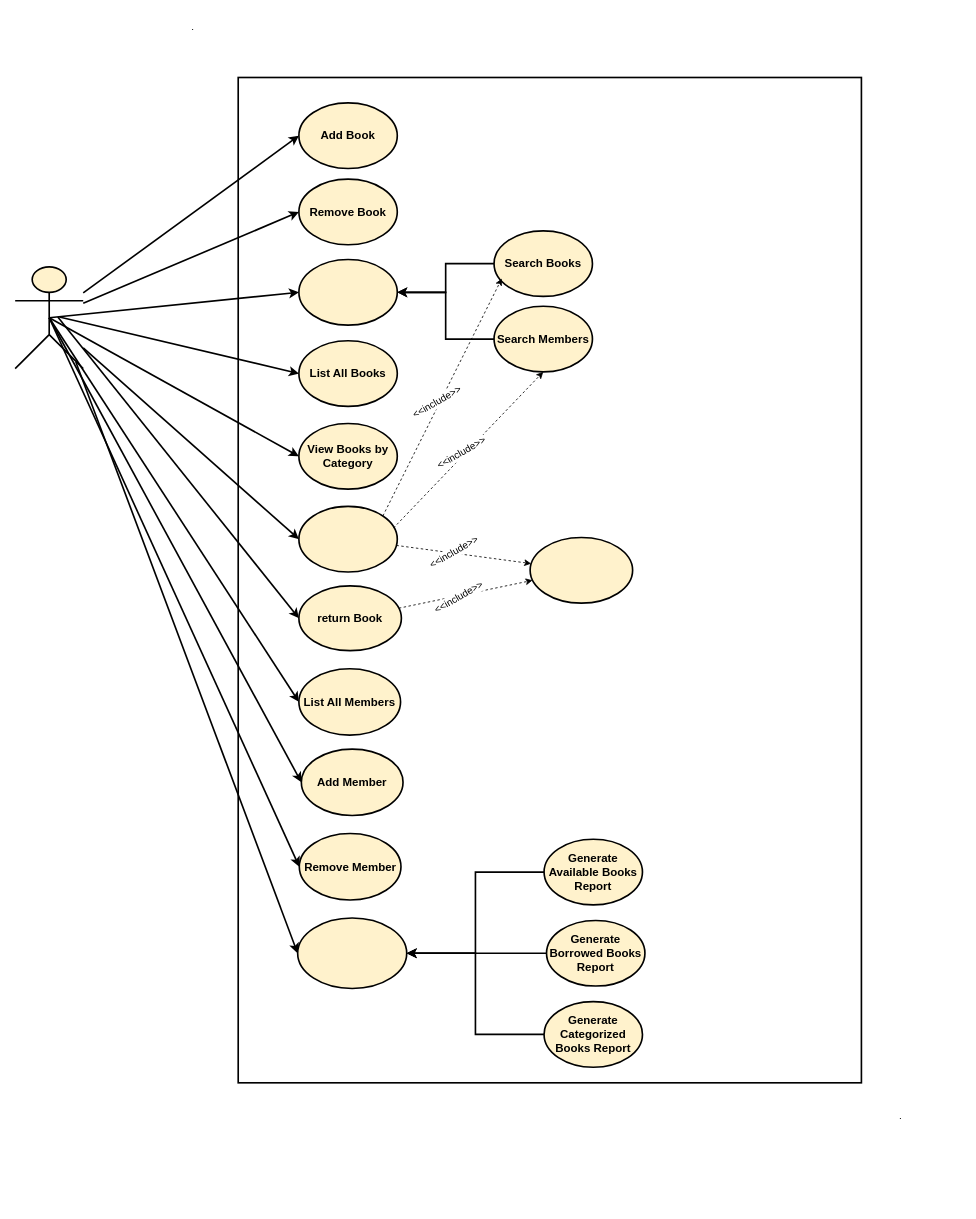
Some shapes in this 976 by 1219 pixel diagram are drawn without their labels. Here are the shapes that lost their labels. From the top down, the centre of each, then its label:
At (x=348, y=292): "Search".
At (x=49, y=317): "Librarian".
At (x=348, y=538): "Borrow Book".
At (x=581, y=570): "Check Borrow Records".
At (x=351, y=953): "Generate Reports".
